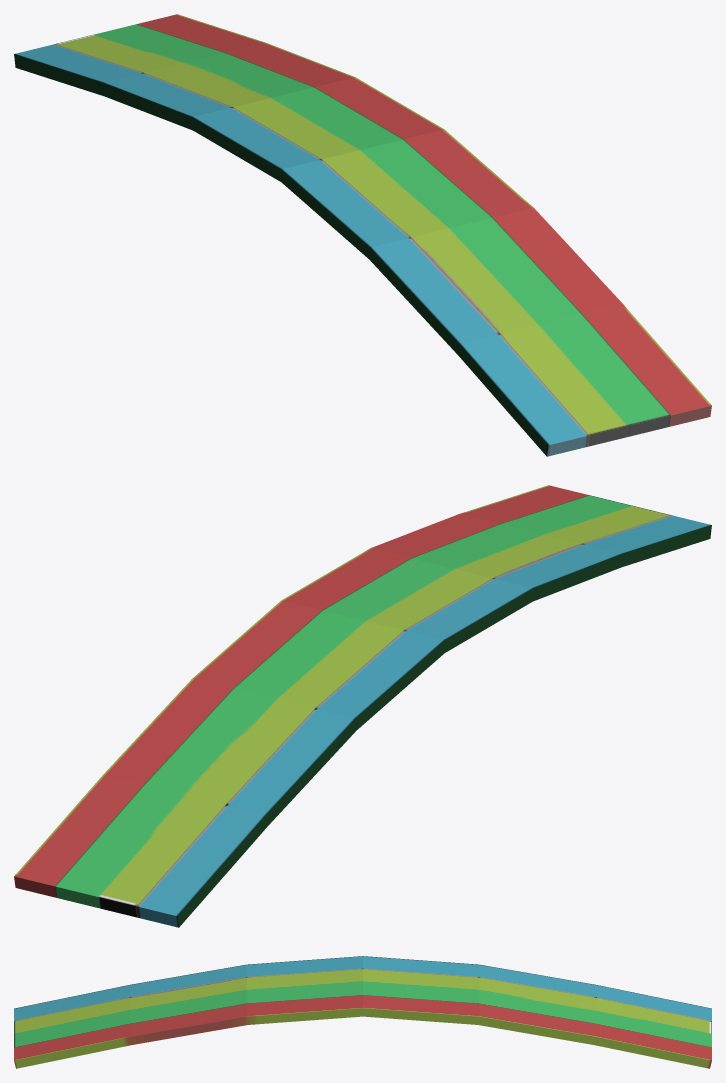
File: arcoiris.fbx
The picture shows the model from 3 angles, top to bottom: view 1: azimuth 30°, elevation 25°; view 2: azimuth 150°, elevation 25°; view 3: azimuth 270°, elevation 25°; orthographic projection. The views are drawn at different scales.
Parts seen in each view (by area): view 1: Plane; view 2: Plane; view 3: Plane.
Part boxes in pixels (<box>): Plane: <box>14,14,711,456</box>; Plane: <box>14,485,711,927</box>; Plane: <box>14,956,711,1068</box>.
Size of the model in its own units: 159 by 86.42 by 901.
